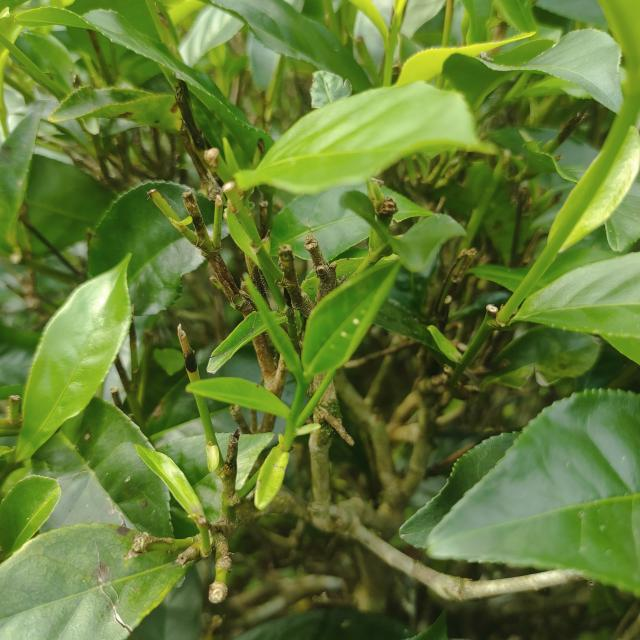unopened_leaf: (237, 261, 308, 385)
